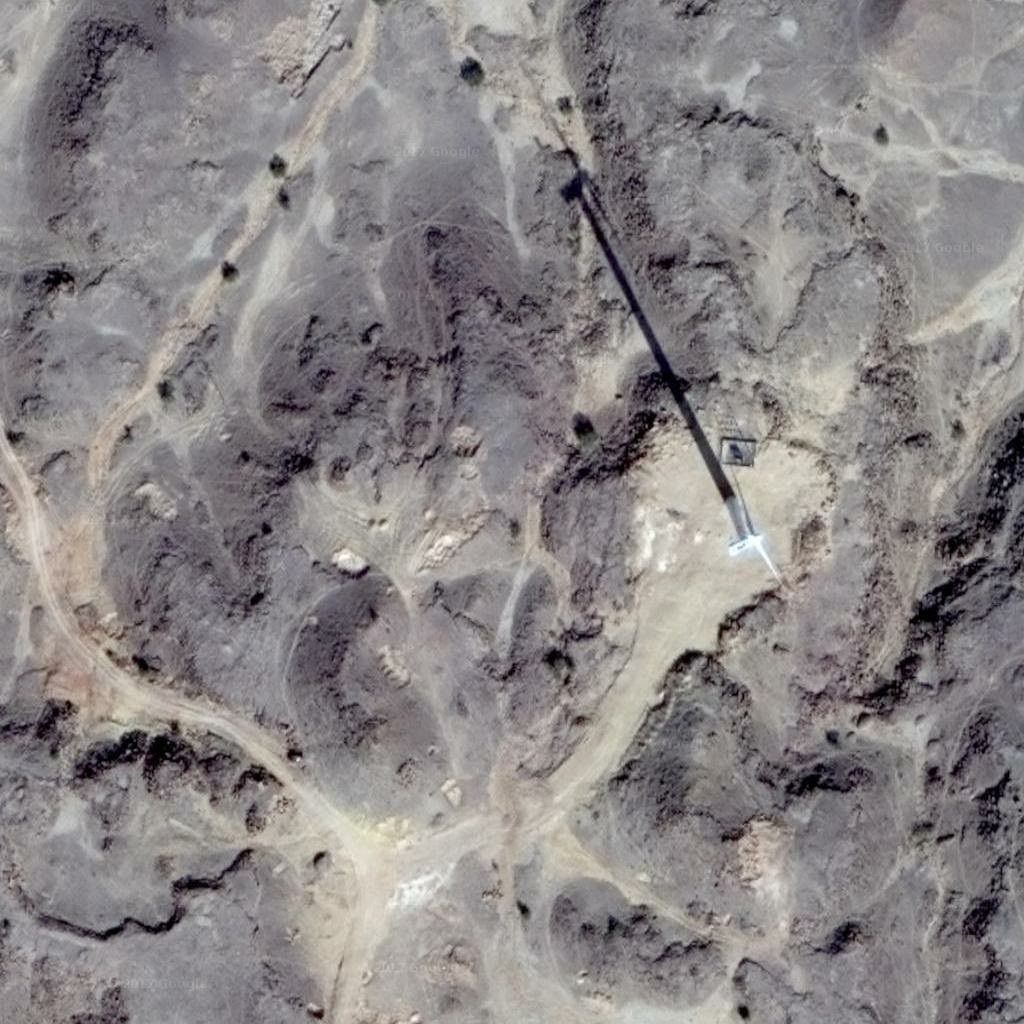Windmill: (532, 138, 770, 495)
